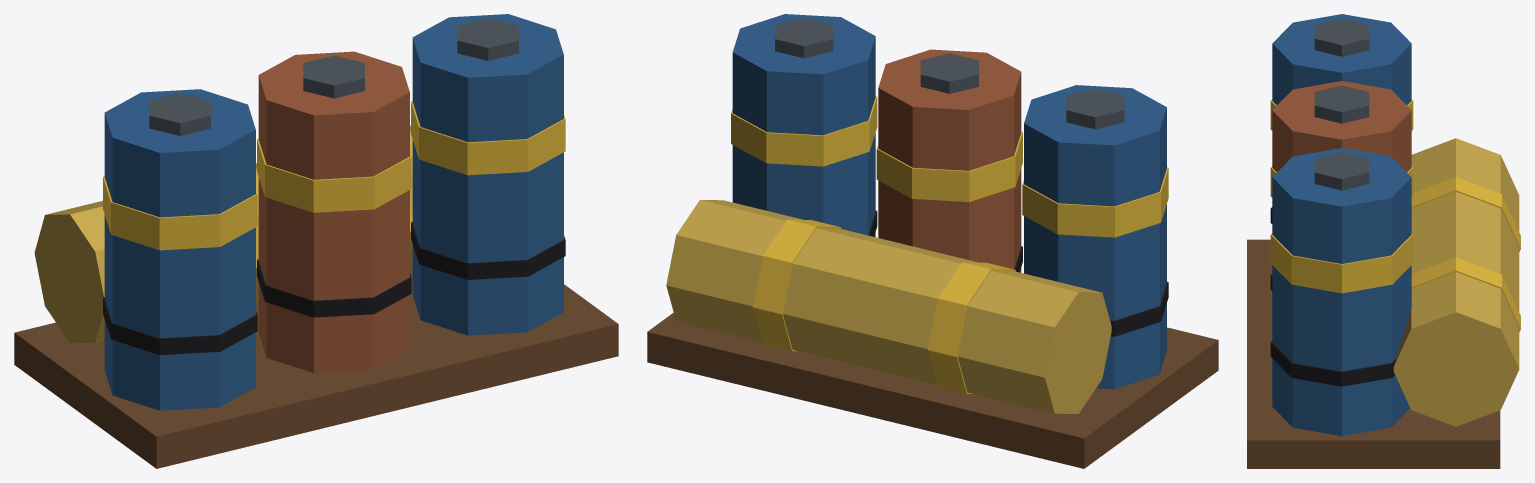
The model's file is GV_ShipDrums_01.glb.
3 renders of one model, left to right at view 1: azimuth 30°, elevation 25°; view 2: azimuth 150°, elevation 25°; view 3: azimuth 270°, elevation 25°, orthographic. The views are drawn at different scales.
Visible parts, largest first — view 1: GV_ShipDrums_01; view 2: GV_ShipDrums_01; view 3: GV_ShipDrums_01.
Part boxes in pixels (x1=…): GV_ShipDrums_01: x1=14, y1=14, x2=618, y2=468; GV_ShipDrums_01: x1=647, y1=14, x2=1218, y2=468; GV_ShipDrums_01: x1=1247, y1=14, x2=1520, y2=468.
Bounding box in the file's own units: 1.5 × 0.94 × 0.865.
1 material, 1 textured.
